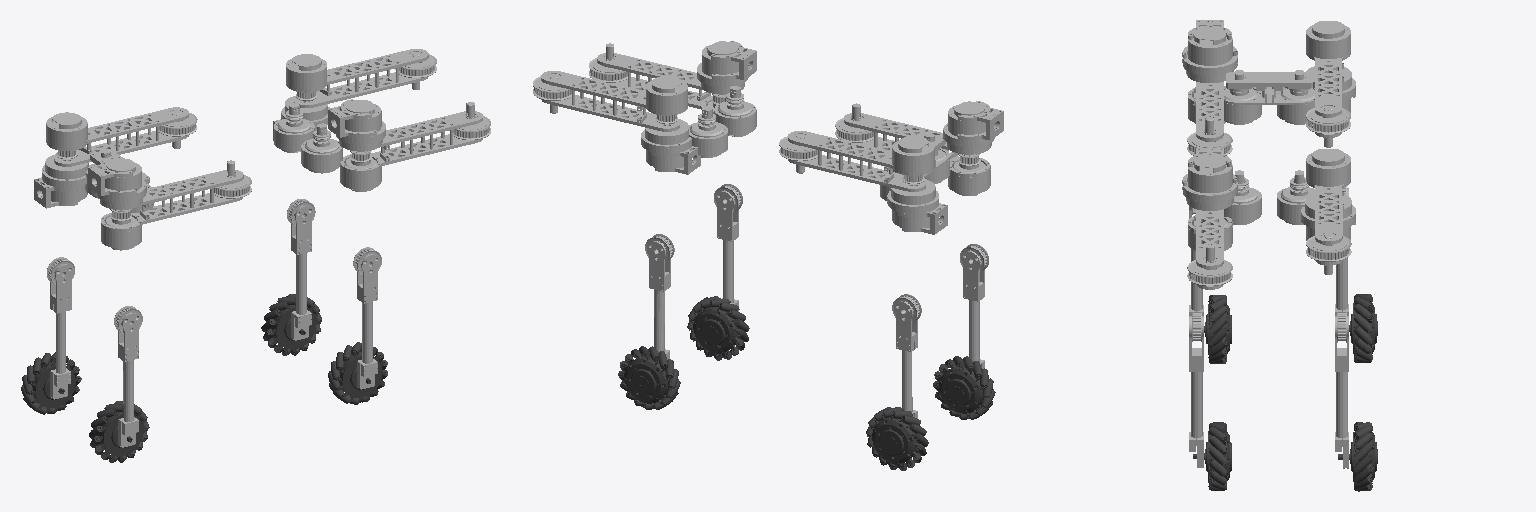
The robot description file, URDF, robot "wheelleg_description_ver12":
<?xml version="1.0" encoding="utf-8"?>
<!-- This URDF was automatically created by SolidWorks to URDF Exporter! Originally created by [author] ([email redacted]) 
     Commit Version: 1.6.0-4-g7f85cfe  Build Version: 1.6.7995.38578
     For more information, please see http://wiki.ros.org/sw_urdf_exporter -->
<robot
  name="wheelleg_description_ver12">
  <link
    name="base_link">
    <inertial>
      <origin
        xyz="-0.018477 0.0053442 0.0047358"
        rpy="0 0 0" />
      <mass
        value="2.4417" />
      <inertia
        ixx="0.0036992"
        ixy="-0.00054117"
        ixz="2.6284E-06"
        iyy="0.01421"
        iyz="-3.3856E-05"
        izz="0.014405" />
    </inertial>
    <visual>
      <origin
        xyz="0 0 0"
        rpy="0 0 0" />
      <geometry>
        <mesh
          filename="package://wheelleg_description_ver12/meshes/base_link.STL" />
      </geometry>
      <material
        name="">
        <color
          rgba="0.75294 0.75294 0.75294 1" />
      </material>
    </visual>
    <collision>
      <origin
        xyz="0 0 0"
        rpy="0 0 0" />
      <geometry>
        <mesh
          filename="package://wheelleg_description_ver12/meshes/base_link.STL" />
      </geometry>
    </collision>
  </link>
  <link
    name="LF_hr">
    <inertial>
      <origin
        xyz="0.0254381972161002 0.012529224507784 -8.63487661971517E-05"
        rpy="0 0 0" />
      <mass
        value="0.567815366839139" />
      <inertia
        ixx="0.000570978647284917"
        ixy="-3.97708765468956E-07"
        ixz="1.48220765887281E-08"
        iyy="0.000579959876312731"
        iyz="-3.71191358023925E-07"
        izz="0.000388548177892307" />
    </inertial>
    <visual>
      <origin
        xyz="0 0 0"
        rpy="0 0 0" />
      <geometry>
        <mesh
          filename="package://wheelleg_description_ver12/meshes/LF_hr.STL" />
      </geometry>
      <material
        name="">
        <color
          rgba="0.752941176470588 0.752941176470588 0.752941176470588 1" />
      </material>
    </visual>
    <collision>
      <origin
        xyz="0 0 0"
        rpy="0 0 0" />
      <geometry>
        <mesh
          filename="package://wheelleg_description_ver12/meshes/LF_hr.STL" />
      </geometry>
    </collision>
  </link>
  <joint
    name="LF_hr_joint"
    type="revolute">
    <origin
      xyz="0.2496 0.065 0"
      rpy="0 0 0" />
    <parent
      link="base_link" />
    <child
      link="LF_hr" />
    <axis
      xyz="-1 0 0" />
    <limit
      lower="0"
      upper="0"
      effort="0"
      velocity="0" />
  </joint>
  <link
    name="LF_hp">
    <inertial>
      <origin
        xyz="0.000558060138357797 0.0516976279704902 -0.0801936148629627"
        rpy="0 0 0" />
      <mass
        value="0.657880483360443" />
      <inertia
        ixx="0.00298561412676882"
        ixy="-3.44193414515424E-09"
        ixz="1.85078099792161E-05"
        iyy="0.00327753554959795"
        iyz="4.8065295418868E-07"
        izz="0.000329090678857989" />
    </inertial>
    <visual>
      <origin
        xyz="0 0 0"
        rpy="0 0 0" />
      <geometry>
        <mesh
          filename="package://wheelleg_description_ver12/meshes/LF_hp.STL" />
      </geometry>
      <material
        name="">
        <color
          rgba="0.752941176470588 0.752941176470588 0.752941176470588 1" />
      </material>
    </visual>
    <collision>
      <origin
        xyz="0 0 0"
        rpy="0 0 0" />
      <geometry>
        <mesh
          filename="package://wheelleg_description_ver12/meshes/LF_hp.STL" />
      </geometry>
    </collision>
  </link>
  <joint
    name="LF_hp_joint"
    type="revolute">
    <origin
      xyz="0.07 0.0636 0"
      rpy="0 0 0" />
    <parent
      link="LF_hr" />
    <child
      link="LF_hp" />
    <axis
      xyz="0 -1 0" />
    <limit
      lower="0"
      upper="0"
      effort="0"
      velocity="0" />
  </joint>
  <link
    name="LF_k">
    <inertial>
      <origin
        xyz="-0.112850655688754 0.00117399751274616 -0.00247273907539436"
        rpy="0 0 0" />
      <mass
        value="0.198464848924009" />
      <inertia
        ixx="3.8426290181491E-05"
        ixy="-1.02195218814259E-06"
        ixz="-2.45787343398481E-06"
        iyy="0.000174670488768274"
        iyz="-2.23926078139554E-08"
        izz="0.000150547481060215" />
    </inertial>
    <visual>
      <origin
        xyz="0 0 0"
        rpy="0 0 0" />
      <geometry>
        <mesh
          filename="package://wheelleg_description_ver12/meshes/LF_k.STL" />
      </geometry>
      <material
        name="">
        <color
          rgba="0.752941176470588 0.752941176470588 0.752941176470588 1" />
      </material>
    </visual>
    <collision>
      <origin
        xyz="0 0 0"
        rpy="0 0 0" />
      <geometry>
        <mesh
          filename="package://wheelleg_description_ver12/meshes/LF_k.STL" />
      </geometry>
    </collision>
  </link>
  <joint
    name="LF_k_joint"
    type="revolute">
    <origin
      xyz="0.0020916 0.029 -0.29999"
      rpy="0 -1.5533 0" />
    <parent
      link="LF_hp" />
    <child
      link="LF_k" />
    <axis
      xyz="0 -1 0" />
    <limit
      lower="0"
      upper="0"
      effort="0"
      velocity="0" />
  </joint>
  <link
    name="LF_w">
    <inertial>
      <origin
        xyz="2.00787497739441E-10 0.00227619266425716 -9.57534052048459E-12"
        rpy="0 0 0" />
      <mass
        value="0.736836125439235" />
      <inertia
        ixx="0.000501009398610274"
        ixy="-5.31845815699741E-13"
        ixz="-2.65736145664147E-09"
        iyy="0.000781598953029627"
        iyz="2.49681135998751E-14"
        izz="0.000501006438477364" />
    </inertial>
    <visual>
      <origin
        xyz="0 0 0"
        rpy="0 0 0" />
      <geometry>
        <mesh
          filename="package://wheelleg_description_ver12/meshes/LF_w.STL" />
      </geometry>
      <material
        name="">
        <color
          rgba="0.313725490196078 0.313725490196078 0.313725490196078 1" />
      </material>
    </visual>
    <collision>
      <origin
        xyz="0 0 0"
        rpy="0 0 0" />
      <geometry>
        <mesh
          filename="package://wheelleg_description_ver12/meshes/LF_w.STL" />
      </geometry>
    </collision>
  </link>
  <joint
    name="LF_w_joint"
    type="continuous">
    <origin
      xyz="-0.30993 0.0445 -0.0067909"
      rpy="0 -0.017542 0" />
    <parent
      link="LF_k" />
    <child
      link="LF_w" />
    <axis
      xyz="0 -1 0" />
  </joint>
  <link
    name="RF_hr">
    <inertial>
      <origin
        xyz="0.0245547394831418 -0.0122949755194758 -8.46309781258655E-05"
        rpy="0 0 0" />
      <mass
        value="0.577928765321086" />
      <inertia
        ixx="0.000583453587938907"
        ixy="3.97412814108162E-07"
        ixz="-1.48221035827132E-08"
        iyy="0.000586245308829157"
        iyz="4.01017269066758E-07"
        izz="0.000394832457952154" />
    </inertial>
    <visual>
      <origin
        xyz="0 0 0"
        rpy="0 0 0" />
      <geometry>
        <mesh
          filename="package://wheelleg_description_ver12/meshes/RF_hr.STL" />
      </geometry>
      <material
        name="">
        <color
          rgba="0.752941176470588 0.752941176470588 0.752941176470588 1" />
      </material>
    </visual>
    <collision>
      <origin
        xyz="0 0 0"
        rpy="0 0 0" />
      <geometry>
        <mesh
          filename="package://wheelleg_description_ver12/meshes/RF_hr.STL" />
      </geometry>
    </collision>
  </link>
  <joint
    name="RF_hr_joint"
    type="revolute">
    <origin
      xyz="0.2496 -0.065 0"
      rpy="0 0 0" />
    <parent
      link="base_link" />
    <child
      link="RF_hr" />
    <axis
      xyz="-1 0 0" />
    <limit
      lower="0"
      upper="0"
      effort="0"
      velocity="0" />
  </joint>
  <link
    name="RF_hp">
    <inertial>
      <origin
        xyz="0.000512051863035379 -0.051697627908871 -0.0801939218716638"
        rpy="0 0 0" />
      <mass
        value="0.657880483360805" />
      <inertia
        ixx="0.00298563500987998"
        ixy="2.97198903500265E-09"
        ixz="1.6942907650999E-05"
        iyy="0.00327753554959869"
        iyz="-4.80653823745764E-07"
        izz="0.000329069795746094" />
    </inertial>
    <visual>
      <origin
        xyz="0 0 0"
        rpy="0 0 0" />
      <geometry>
        <mesh
          filename="package://wheelleg_description_ver12/meshes/RF_hp.STL" />
      </geometry>
      <material
        name="">
        <color
          rgba="0.752941176470588 0.752941176470588 0.752941176470588 1" />
      </material>
    </visual>
    <collision>
      <origin
        xyz="0 0 0"
        rpy="0 0 0" />
      <geometry>
        <mesh
          filename="package://wheelleg_description_ver12/meshes/RF_hp.STL" />
      </geometry>
    </collision>
  </link>
  <joint
    name="RF_hp_joint"
    type="revolute">
    <origin
      xyz="0.07 -0.0636 0"
      rpy="0 0 0" />
    <parent
      link="RF_hr" />
    <child
      link="RF_hp" />
    <axis
      xyz="0 1 0" />
    <limit
      lower="0"
      upper="0"
      effort="0"
      velocity="0" />
  </joint>
  <link
    name="RF_k">
    <inertial>
      <origin
        xyz="-0.112877734706474 -0.00117399742584921 4.39926820854364E-05"
        rpy="0 0 0" />
      <mass
        value="0.198464848922729" />
      <inertia
        ixx="3.83724525850957E-05"
        ixy="1.02219751488373E-06"
        ixz="4.36778480574663E-08"
        iyy="0.000174670488766466"
        iyz="-3.98387492109487E-10"
        izz="0.000150601318658006" />
    </inertial>
    <visual>
      <origin
        xyz="0 0 0"
        rpy="0 0 0" />
      <geometry>
        <mesh
          filename="package://wheelleg_description_ver12/meshes/RF_k.STL" />
      </geometry>
      <material
        name="">
        <color
          rgba="0.752941176470588 0.752941176470588 0.752941176470588 1" />
      </material>
    </visual>
    <collision>
      <origin
        xyz="0 0 0"
        rpy="0 0 0" />
      <geometry>
        <mesh
          filename="package://wheelleg_description_ver12/meshes/RF_k.STL" />
      </geometry>
    </collision>
  </link>
  <joint
    name="RF_k_joint"
    type="revolute">
    <origin
      xyz="0.0019115 -0.029 -0.29999"
      rpy="3.1416 -1.5708 0" />
    <parent
      link="RF_hp" />
    <child
      link="RF_k" />
    <axis
      xyz="0 1 0" />
    <limit
      lower="0"
      upper="0"
      effort="0"
      velocity="0" />
  </joint>
  <link
    name="RF_w">
    <inertial>
      <origin
        xyz="-5.67896063508044E-10 -0.00227618034713825 1.17095022567071E-09"
        rpy="0 0 0" />
      <mass
        value="0.736835712989822" />
      <inertia
        ixx="0.000501004638683537"
        ixy="2.94996142650155E-13"
        ixz="8.39702571764766E-12"
        iyy="0.00078159845249956"
        iyz="1.99204433961118E-13"
        izz="0.000501010696257228" />
    </inertial>
    <visual>
      <origin
        xyz="0 0 0"
        rpy="0 0 0" />
      <geometry>
        <mesh
          filename="package://wheelleg_description_ver12/meshes/RF_w.STL" />
      </geometry>
      <material
        name="">
        <color
          rgba="0.313725490196078 0.313725490196078 0.313725490196078 1" />
      </material>
    </visual>
    <collision>
      <origin
        xyz="0 0 0"
        rpy="0 0 0" />
      <geometry>
        <mesh
          filename="package://wheelleg_description_ver12/meshes/RF_w.STL" />
      </geometry>
    </collision>
  </link>
  <joint
    name="RF_w_joint"
    type="continuous">
    <origin
      xyz="-0.31 -0.0445 0.00012078"
      rpy="0 0 0" />
    <parent
      link="RF_k" />
    <child
      link="RF_w" />
    <axis
      xyz="0 1 0" />
  </joint>
  <link
    name="LH_hr">
    <inertial>
      <origin
        xyz="-0.0245547394830637 0.0122949755197763 -8.46309577369562E-05"
        rpy="0 0 0" />
      <mass
        value="0.577928765321086" />
      <inertia
        ixx="0.000583453587938914"
        ixy="3.97412814101913E-07"
        ixz="1.48221042393631E-08"
        iyy="0.000586245308830483"
        iyz="-4.01016951645256E-07"
        izz="0.000394832457950825" />
    </inertial>
    <visual>
      <origin
        xyz="0 0 0"
        rpy="0 0 0" />
      <geometry>
        <mesh
          filename="package://wheelleg_description_ver12/meshes/LH_hr.STL" />
      </geometry>
      <material
        name="">
        <color
          rgba="0.752941176470588 0.752941176470588 0.752941176470588 1" />
      </material>
    </visual>
    <collision>
      <origin
        xyz="0 0 0"
        rpy="0 0 0" />
      <geometry>
        <mesh
          filename="package://wheelleg_description_ver12/meshes/LH_hr.STL" />
      </geometry>
    </collision>
  </link>
  <joint
    name="LH_hr_joint"
    type="revolute">
    <origin
      xyz="-0.2656 0.065 0"
      rpy="0 0 0" />
    <parent
      link="base_link" />
    <child
      link="LH_hr" />
    <axis
      xyz="1 0 0" />
    <limit
      lower="0"
      upper="0"
      effort="0"
      velocity="0" />
  </joint>
  <link
    name="LH_hp">
    <inertial>
      <origin
        xyz="0.000164044575075267 0.0516976280417897 -0.0801953887571782"
        rpy="0 0 0" />
      <mass
        value="0.657880483360537" />
      <inertia
        ixx="0.00298573186269122"
        ixy="-1.08033884716331E-09"
        ixz="5.4549912919099E-06"
        iyy="0.0032775355495971"
        iyz="4.80666685034126E-07"
        izz="0.000328972942936453" />
    </inertial>
    <visual>
      <origin
        xyz="0 0 0"
        rpy="0 0 0" />
      <geometry>
        <mesh
          filename="package://wheelleg_description_ver12/meshes/LH_hp.STL" />
      </geometry>
      <material
        name="">
        <color
          rgba="0.752941176470588 0.752941176470588 0.752941176470588 1" />
      </material>
    </visual>
    <collision>
      <origin
        xyz="0 0 0"
        rpy="0 0 0" />
      <geometry>
        <mesh
          filename="package://wheelleg_description_ver12/meshes/LH_hp.STL" />
      </geometry>
    </collision>
  </link>
  <joint
    name="LH_hp_joint"
    type="revolute">
    <origin
      xyz="-0.07 0.0636 0"
      rpy="0 0 0" />
    <parent
      link="LH_hr" />
    <child
      link="LH_hp" />
    <axis
      xyz="0 -1 0" />
    <limit
      lower="0"
      upper="0"
      effort="0"
      velocity="0" />
  </joint>
  <link
    name="LH_k">
    <inertial>
      <origin
        xyz="-0.112864181759625 0.00117399751802882 -0.00174968662765981"
        rpy="0 0 0" />
      <mass
        value="0.19846484892259" />
      <inertia
        ixx="3.83993991733479E-05"
        ixy="-1.02207467098984E-06"
        ixz="-1.73935817685966E-06"
        iyy="0.0001746704887681"
        iyz="-1.58447946027821E-08"
        izz="0.000150574372068084" />
    </inertial>
    <visual>
      <origin
        xyz="0 0 0"
        rpy="0 0 0" />
      <geometry>
        <mesh
          filename="package://wheelleg_description_ver12/meshes/LH_k.STL" />
      </geometry>
      <material
        name="">
        <color
          rgba="0.752941176470588 0.752941176470588 0.752941176470588 1" />
      </material>
    </visual>
    <collision>
      <origin
        xyz="0 0 0"
        rpy="0 0 0" />
      <geometry>
        <mesh
          filename="package://wheelleg_description_ver12/meshes/LH_k.STL" />
      </geometry>
    </collision>
  </link>
  <joint
    name="LH_k_joint"
    type="revolute">
    <origin
      xyz="0.00061765 0.029 -0.3"
      rpy="0 -1.5533 0" />
    <parent
      link="LH_hp" />
    <child
      link="LH_k" />
    <axis
      xyz="0 -1 0" />
    <limit
      lower="0"
      upper="0"
      effort="0"
      velocity="0" />
  </joint>
  <link
    name="LH_w">
    <inertial>
      <origin
        xyz="-1.13557341308024E-09 0.0022761803471617 -6.36876662518659E-10"
        rpy="0 0 0" />
      <mass
        value="0.736835712989823" />
      <inertia
        ixx="0.000501006627473481"
        ixy="2.93727275899398E-13"
        ixz="2.84464878484926E-09"
        iyy="0.00078159845249956"
        iyz="1.22642736339409E-13"
        izz="0.000501008707467285" />
    </inertial>
    <visual>
      <origin
        xyz="0 0 0"
        rpy="0 0 0" />
      <geometry>
        <mesh
          filename="package://wheelleg_description_ver12/meshes/LH_w.STL" />
      </geometry>
      <material
        name="">
        <color
          rgba="0.313725490196078 0.313725490196078 0.313725490196078 1" />
      </material>
    </visual>
    <collision>
      <origin
        xyz="0 0 0"
        rpy="0 0 0" />
      <geometry>
        <mesh
          filename="package://wheelleg_description_ver12/meshes/LH_w.STL" />
      </geometry>
    </collision>
  </link>
  <joint
    name="LH_w_joint"
    type="continuous">
    <origin
      xyz="-0.30996 0.0445 -0.0048052"
      rpy="0 0 0" />
    <parent
      link="LH_k" />
    <child
      link="LH_w" />
    <axis
      xyz="0 -1 0" />
  </joint>
  <link
    name="RH_hr">
    <inertial>
      <origin
        xyz="-0.0245571567989414 -0.0122949755137087 -8.22136603405108E-05"
        rpy="0 0 0" />
      <mass
        value="0.577928765321087" />
      <inertia
        ixx="0.000583453587938897"
        ixy="-3.97594421379008E-07"
        ixz="-1.48221058577687E-08"
        iyy="0.000586245308830599"
        iyz="3.7119110573758E-07"
        izz="0.000394832457950726" />
    </inertial>
    <visual>
      <origin
        xyz="0 0 0"
        rpy="0 0 0" />
      <geometry>
        <mesh
          filename="package://wheelleg_description_ver12/meshes/RH_hr.STL" />
      </geometry>
      <material
        name="">
        <color
          rgba="0.752941176470588 0.752941176470588 0.752941176470588 1" />
      </material>
    </visual>
    <collision>
      <origin
        xyz="0 0 0"
        rpy="0 0 0" />
      <geometry>
        <mesh
          filename="package://wheelleg_description_ver12/meshes/RH_hr.STL" />
      </geometry>
    </collision>
  </link>
  <joint
    name="RH_hr_joint"
    type="revolute">
    <origin
      xyz="-0.2656 -0.065 0"
      rpy="0 0 0" />
    <parent
      link="base_link" />
    <child
      link="RH_hr" />
    <axis
      xyz="1 0 0" />
    <limit
      lower="0"
      upper="0"
      effort="0"
      velocity="0" />
  </joint>
  <link
    name="RH_hp">
    <inertial>
      <origin
        xyz="0.000839395304824866 -0.0516976280523152 -0.0801911634969785"
        rpy="0 0 0" />
      <mass
        value="0.657880483360999" />
      <inertia
        ixx="0.002985452426239"
        ixy="4.93398257316777E-09"
        ixz="2.77862219849152E-05"
        iyy="0.00327753554959699"
        iyz="-4.80642961909136E-07"
        izz="0.000329252379388807" />
    </inertial>
    <visual>
      <origin
        xyz="0 0 0"
        rpy="0 0 0" />
      <geometry>
        <mesh
          filename="package://wheelleg_description_ver12/meshes/RH_hp.STL" />
      </geometry>
      <material
        name="">
        <color
          rgba="0.752941176470588 0.752941176470588 0.752941176470588 1" />
      </material>
    </visual>
    <collision>
      <origin
        xyz="0 0 0"
        rpy="0 0 0" />
      <geometry>
        <mesh
          filename="package://wheelleg_description_ver12/meshes/RH_hp.STL" />
      </geometry>
    </collision>
  </link>
  <joint
    name="RH_hp_joint"
    type="revolute">
    <origin
      xyz="-0.07 -0.0636 0"
      rpy="0 0 0" />
    <parent
      link="RH_hr" />
    <child
      link="RH_hp" />
    <axis
      xyz="0 1 0" />
    <limit
      lower="0"
      upper="0"
      effort="0"
      velocity="0" />
  </joint>
  <link
    name="RH_k">
    <inertial>
      <origin
        xyz="-0.112877152385421 -0.0011739978426467 0.000365227221470185"
        rpy="0 0 0" />
      <mass
        value="0.198464848923645" />
      <inertia
        ixx="3.837361012005E-05"
        ixy="1.02219210619496E-06"
        ixz="3.63063991972023E-07"
        iyy="0.000174670488768668"
        iyz="-3.30741630045046E-09"
        izz="0.000150600161121145" />
    </inertial>
    <visual>
      <origin
        xyz="0 0 0"
        rpy="0 0 0" />
      <geometry>
        <mesh
          filename="package://wheelleg_description_ver12/meshes/RH_k.STL" />
      </geometry>
      <material
        name="">
        <color
          rgba="0.752941176470588 0.752941176470588 0.752941176470588 1" />
      </material>
    </visual>
    <collision>
      <origin
        xyz="0 0 0"
        rpy="0 0 0" />
      <geometry>
        <mesh
          filename="package://wheelleg_description_ver12/meshes/RH_k.STL" />
      </geometry>
    </collision>
  </link>
  <joint
    name="RH_k_joint"
    type="revolute">
    <origin
      xyz="0.0031361 -0.029 -0.29998"
      rpy="3.1416 -1.5708 0" />
    <parent
      link="RH_hp" />
    <child
      link="RH_k" />
    <axis
      xyz="0 1 0" />
    <limit
      lower="0"
      upper="0"
      effort="0"
      velocity="0" />
  </joint>
  <link
    name="RH_w">
    <inertial>
      <origin
        xyz="3.48285844609109E-11 -0.00227619326260615 1.94451454937905E-10"
        rpy="0 0 0" />
      <mass
        value="0.736836125439237" />
      <inertia
        ixx="0.000501005017622882"
        ixy="1.23377523868886E-13"
        ixz="-9.14781031737048E-10"
        iyy="0.000781598953029628"
        iyz="5.01583170967053E-13"
        izz="0.000501010819464757" />
    </inertial>
    <visual>
      <origin
        xyz="0 0 0"
        rpy="0 0 0" />
      <geometry>
        <mesh
          filename="package://wheelleg_description_ver12/meshes/RH_w.STL" />
      </geometry>
      <material
        name="">
        <color
          rgba="0.313725490196078 0.313725490196078 0.313725490196078 1" />
      </material>
    </visual>
    <collision>
      <origin
        xyz="0 0 0"
        rpy="0 0 0" />
      <geometry>
        <mesh
          filename="package://wheelleg_description_ver12/meshes/RH_w.STL" />
      </geometry>
    </collision>
  </link>
  <joint
    name="RH_w_joint"
    type="continuous">
    <origin
      xyz="-0.31 -0.0445 0.001003"
      rpy="0 0 0" />
    <parent
      link="RH_k" />
    <child
      link="RH_w" />
    <axis
      xyz="0 1 0" />
  </joint>
</robot>

--- Render facts (derived) ---
3 views of the same robot in one strip: view 1: azimuth 30°, elevation 25°; view 2: azimuth 150°, elevation 25°; view 3: azimuth 270°, elevation 25° (orthographic).
Model wheelleg_description_ver12 with 17 links and 16 joints (12 revolute, 4 continuous), rooted at base_link, posed all joints at 0.
Links seen in each view (by area): view 1: RF_hp, RH_hp, LH_hp, LF_hp, RF_k, LF_k, RH_k, LH_k, LH_w, RF_w, RH_w, LF_w (+2 smaller); view 2: LH_hp, LF_hp, RH_hp, RF_hp, RH_w, LH_w, LF_w, RF_w, RH_k, LF_k, RF_k, LH_k (+3 smaller); view 3: RF_hp, RH_hp, LF_hp, LH_hp, RH_hr, LH_hr, RF_k, LF_k, LF_w, LH_w, RF_w, RH_w (+3 smaller).
Link boxes in pixels (x1,y1,x2,y2): RF_hp: (328,99,490,191); RH_hp: (88,158,251,250); LH_hp: (34,107,197,208); LF_hp: (273,49,436,140); RF_k: (353,247,381,389); LF_k: (287,199,315,340); RH_k: (114,306,142,447); LH_k: (47,257,74,399); LH_w: (21,352,81,414); RF_w: (328,342,387,404); RH_w: (89,401,149,462); LF_w: (261,294,321,355); LH_hp: (779,131,947,234); LF_hp: (533,71,700,174); RH_hp: (835,101,1003,195); RF_hp: (589,41,756,113); RH_w: (933,356,995,419); LH_w: (866,407,928,470); LF_w: (618,346,680,409); RF_w: (687,296,749,360); RH_k: (960,244,988,368); LF_k: (645,234,674,359); RF_k: (714,184,742,311); LH_k: (892,294,921,418); RF_hp: (1182,148,1237,289); RH_hp: (1182,20,1237,155); LF_hp: (1301,149,1355,274); LH_hp: (1306,21,1355,147); RH_hr: (1224,70,1282,124); LH_hr: (1256,70,1314,124); RF_k: (1189,312,1203,467); LF_k: (1335,312,1348,468); LF_w: (1338,422,1377,491); LH_w: (1349,294,1377,362); RF_w: (1193,422,1231,490); RH_w: (1204,295,1231,363).
Bounding box of the posed robot: 1.08 × 0.4234 × 0.7972 m (x, y, z).
Meshes: 17 distinct files referenced, 16 mesh visuals loaded (16 binary STL); not drawn: 1 (reference not matched to a file when rendering).